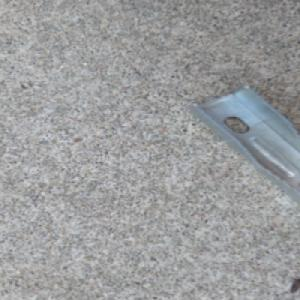ClampPart: (183, 81, 300, 209)
